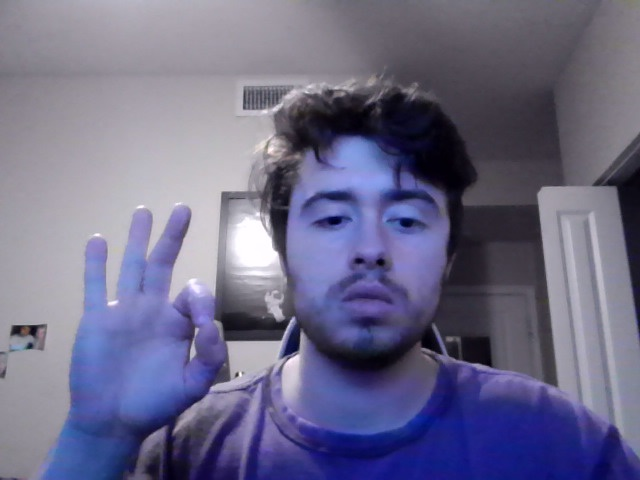f: (67, 202, 227, 450)
